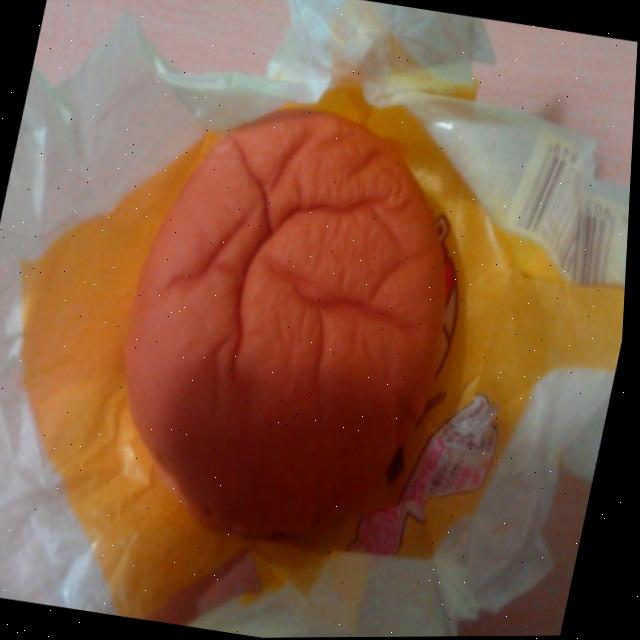汉堡快餐: (83, 78, 494, 548)
